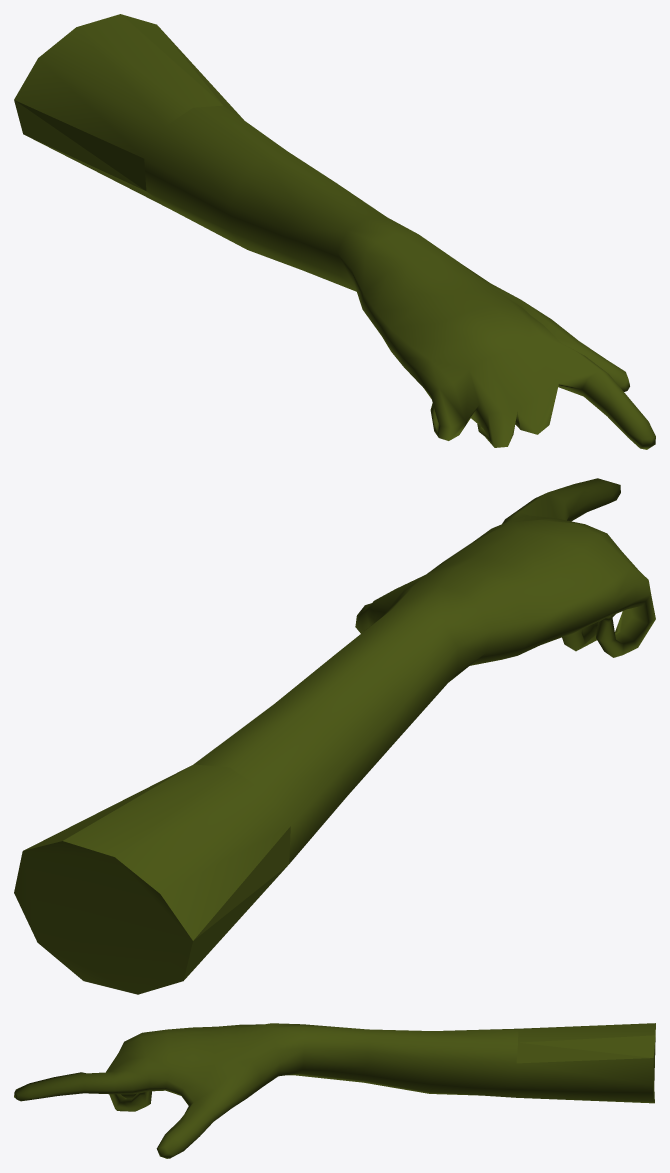
Rendered from hand.fbx.
3 views of the same model, one above another, from view 1: azimuth 30°, elevation 25°; view 2: azimuth 150°, elevation 25°; view 3: azimuth 270°, elevation 25° (orthographic). The views are drawn at different scales.
Parts seen in each view (by area): view 1: Main Golùon; view 2: Main Golùon; view 3: Main Golùon.
Part boxes in pixels (x1=…): Main Golùon: x1=14, y1=14, x2=655, y2=449; Main Golùon: x1=14, y1=478, x2=655, y2=994; Main Golùon: x1=14, y1=1023, x2=655, y2=1158.
Size of the model in its own units: 19.17 by 10.24 by 69.19.
